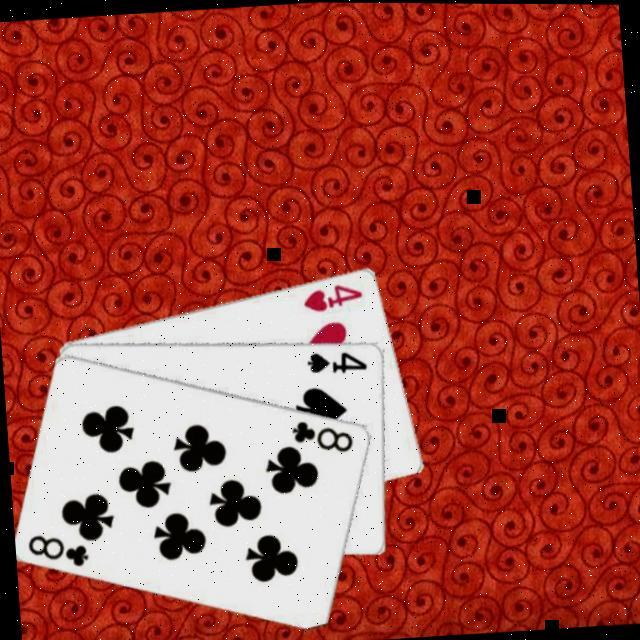4H: (297, 277, 365, 314)
4S: (302, 344, 369, 376)
8C: (22, 526, 92, 572), (288, 412, 357, 457)
